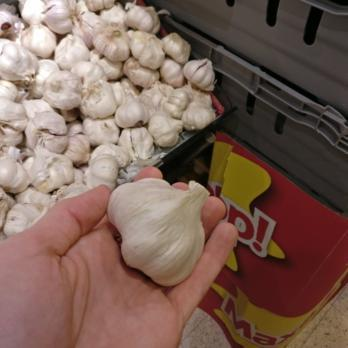Garlic: (0, 2, 139, 177), (105, 177, 206, 285), (139, 27, 211, 145)
